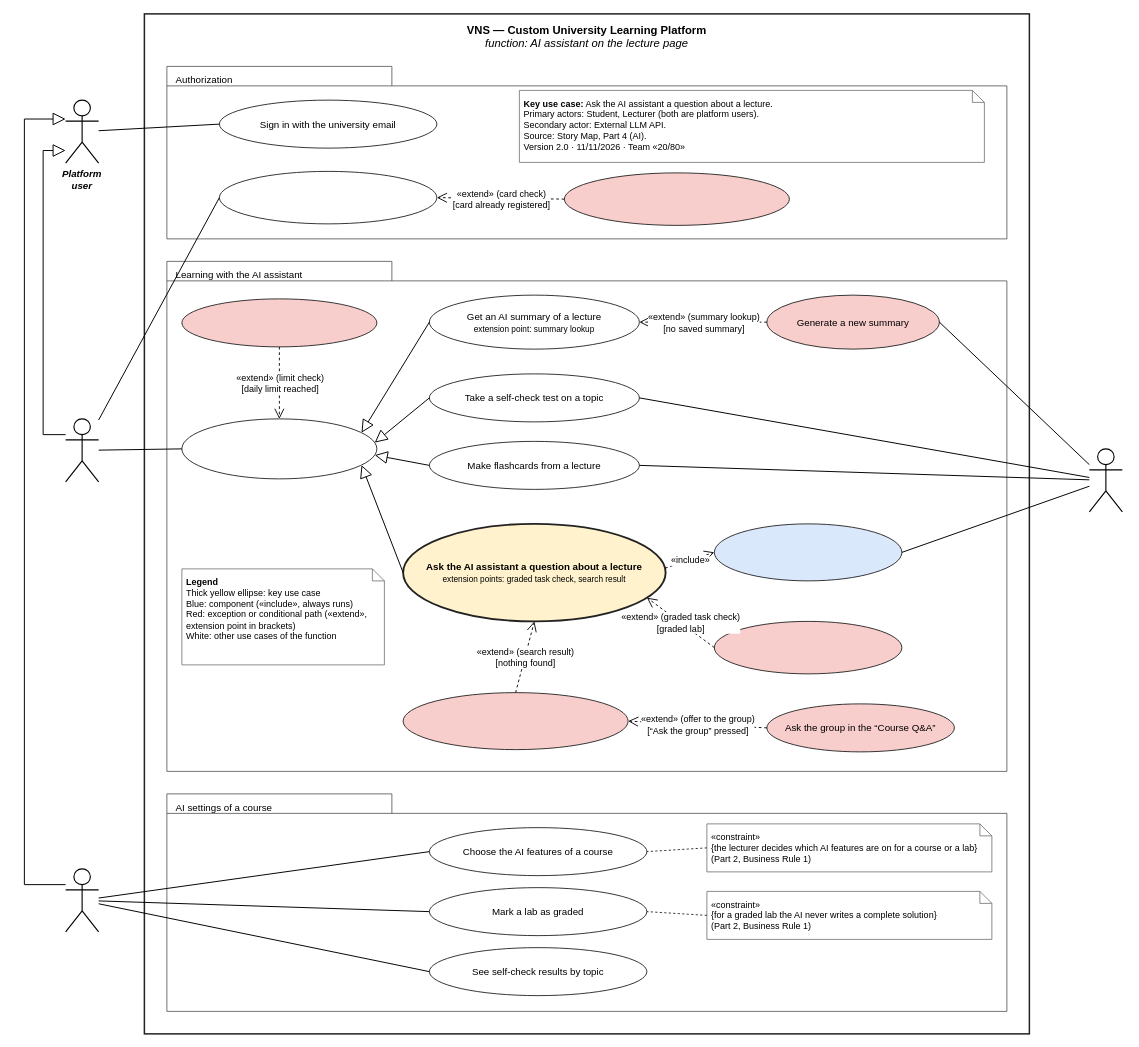
The diagram is 1139 pixels wide and 1047 high, and some of its shapes have lost their labels. Each missing label, with the centre of its shape:
"External LLM API «external system»" belongs at point (1105, 480).
"Get an answer with links to the slides" belongs at point (808, 552).
"Give hints instead of a ready solution" belongs at point (808, 647).
"Lecturer" belongs at point (82, 900).
"Register with the student card number extension point: card check" belongs at point (328, 197).
"Show “Daily AI limit reached”" belongs at point (279, 322).
"Show “Not found in the course materials” extension point: offer to the group" belongs at point (515, 721).
"Show “This student card is already registered”" belongs at point (676, 198).
"Student" belongs at point (82, 450).
"Use AI study tools extension point: limit check" belongs at point (279, 448).
